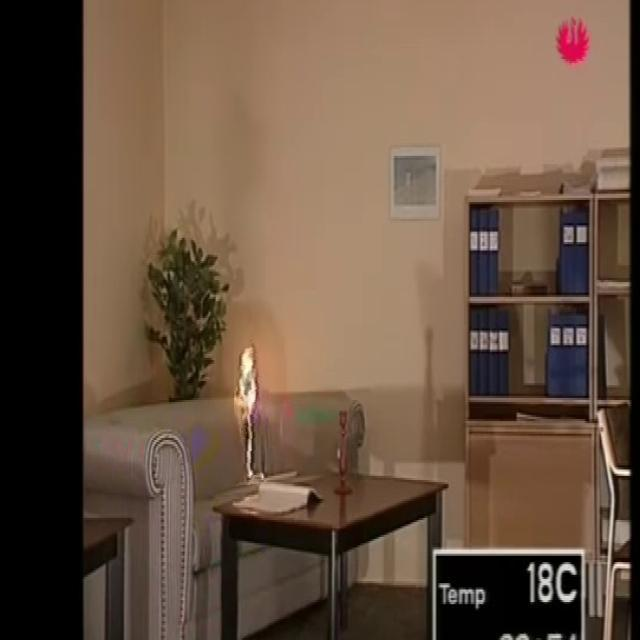smoke: (234, 336, 261, 486)
